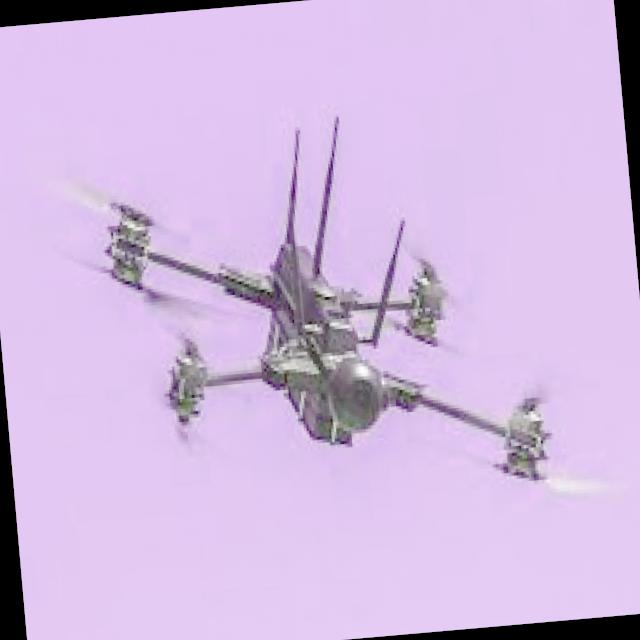drone: (22, 98, 626, 574)
